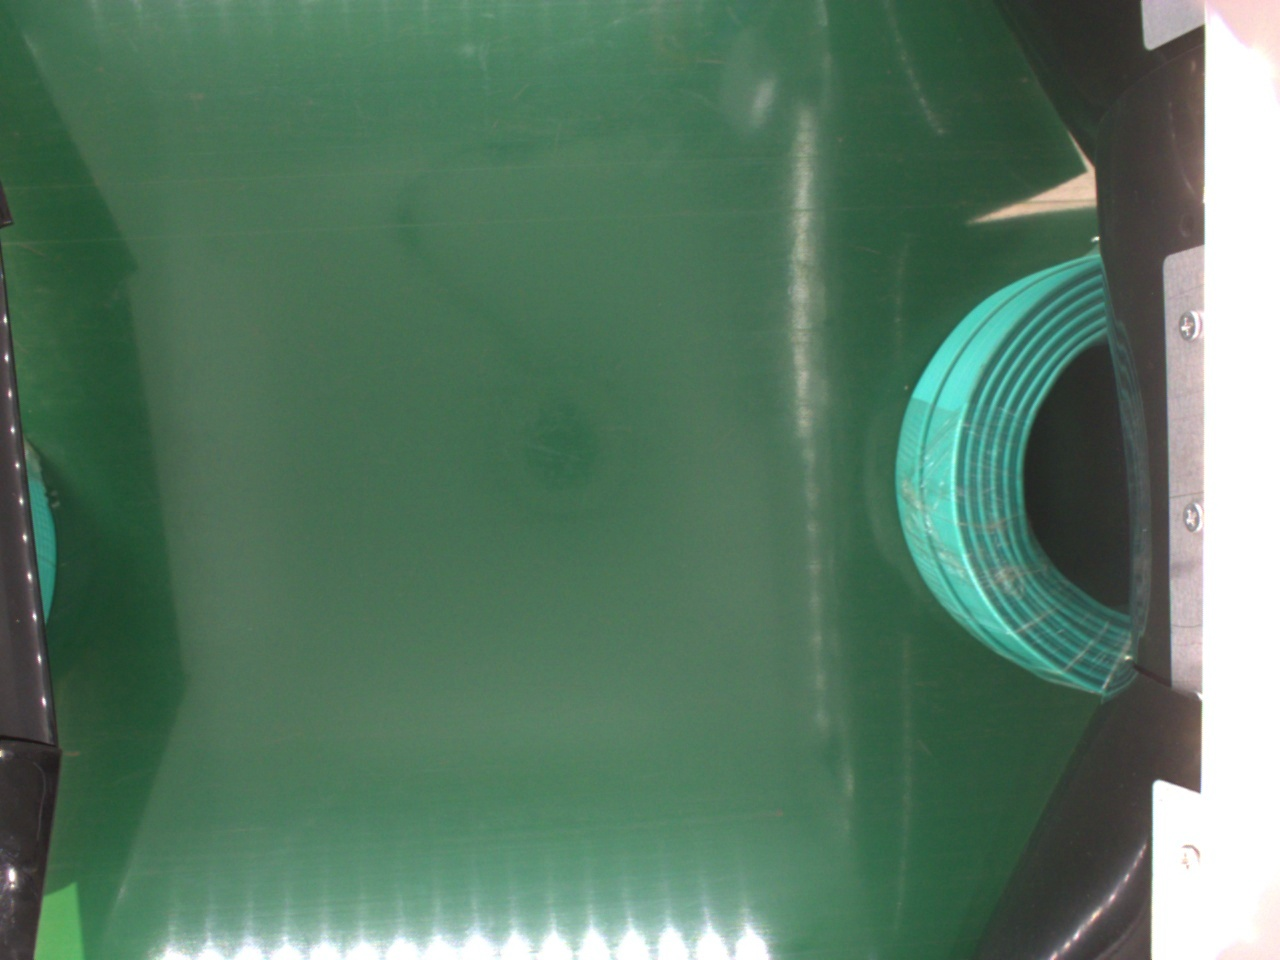green: (897, 244, 1154, 699)
